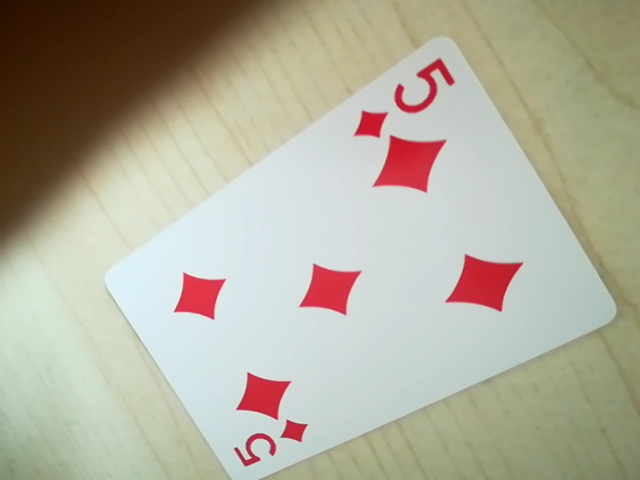fk 5: (348, 53, 457, 140), (228, 415, 310, 479)
